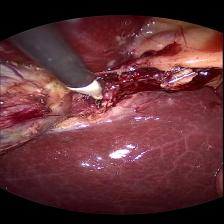Hook: (53, 78, 112, 110)
